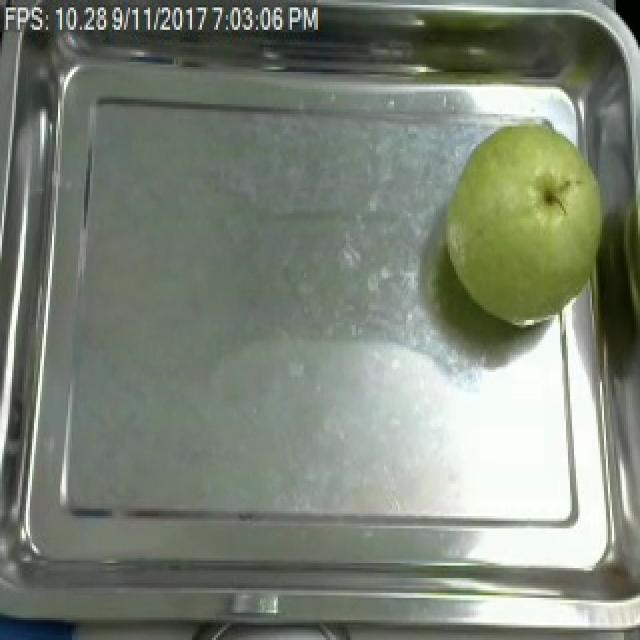Fruit: (432, 112, 622, 335)
